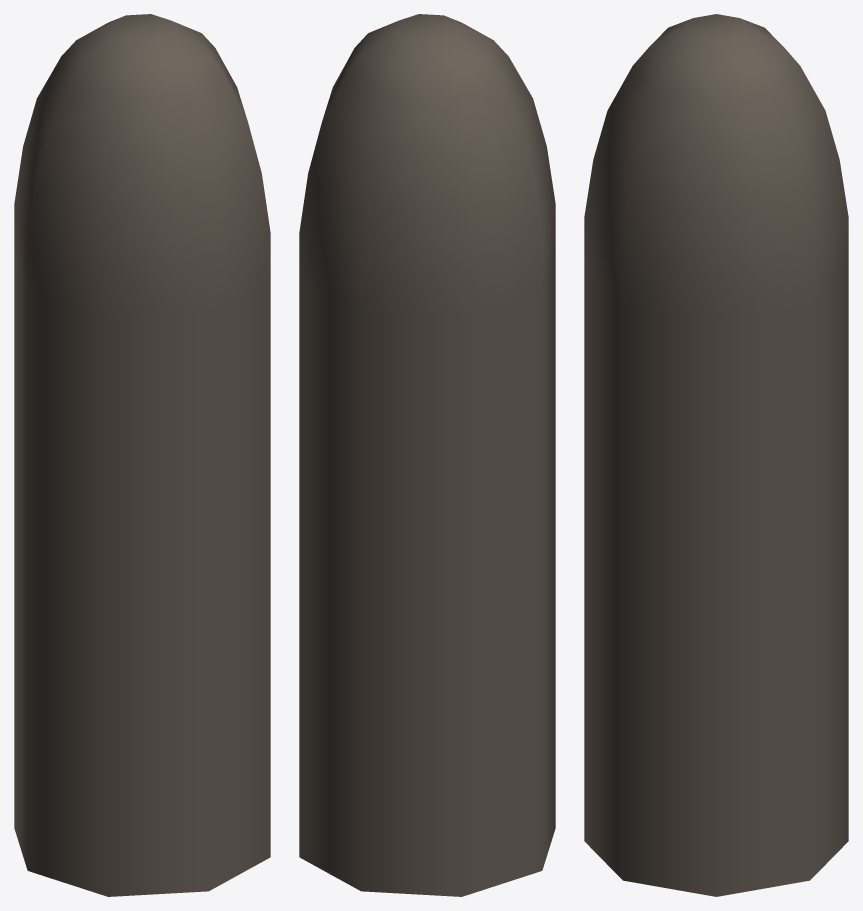
Rendered from rifleBullet.obj.
3 views of the same model, side by side, from view 1: azimuth 30°, elevation 25°; view 2: azimuth 150°, elevation 25°; view 3: azimuth 270°, elevation 25° (orthographic).
Parts seen in each view (by area): view 1: Cylinder_Cylinder.000; view 2: Cylinder_Cylinder.000; view 3: Cylinder_Cylinder.000.
Part boxes in pixels (bbox=[...]): Cylinder_Cylinder.000: bbox=[14, 14, 270, 896]; Cylinder_Cylinder.000: bbox=[299, 14, 555, 896]; Cylinder_Cylinder.000: bbox=[584, 14, 848, 896].
Size of the model in its own units: 1.91 by 6.48 by 1.91.
Materials: 1 (1 with a texture image).
